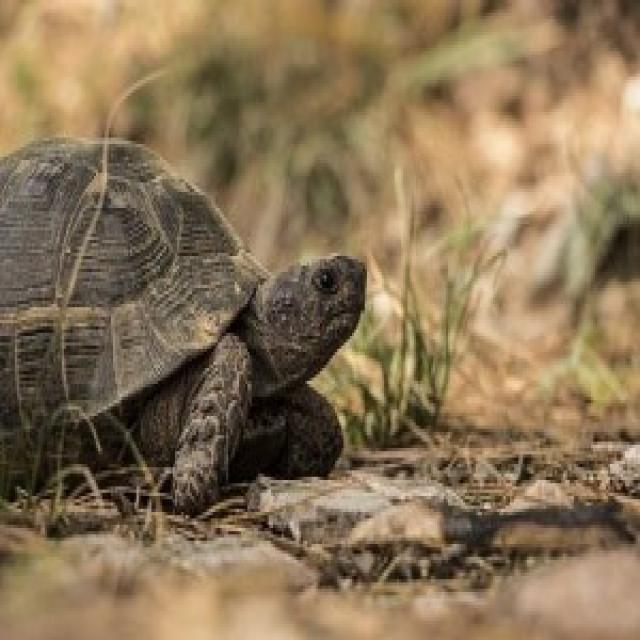Sea turtle: (0, 142, 373, 484)
